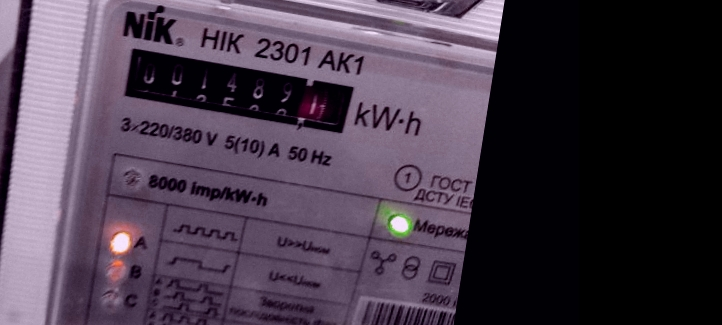0: (139, 58, 158, 85), (167, 59, 186, 86)
1: (195, 62, 213, 93), (304, 85, 321, 117)
4: (222, 67, 242, 95)
8: (247, 71, 268, 101)
9: (276, 78, 295, 105)
screen: (106, 34, 371, 149)
